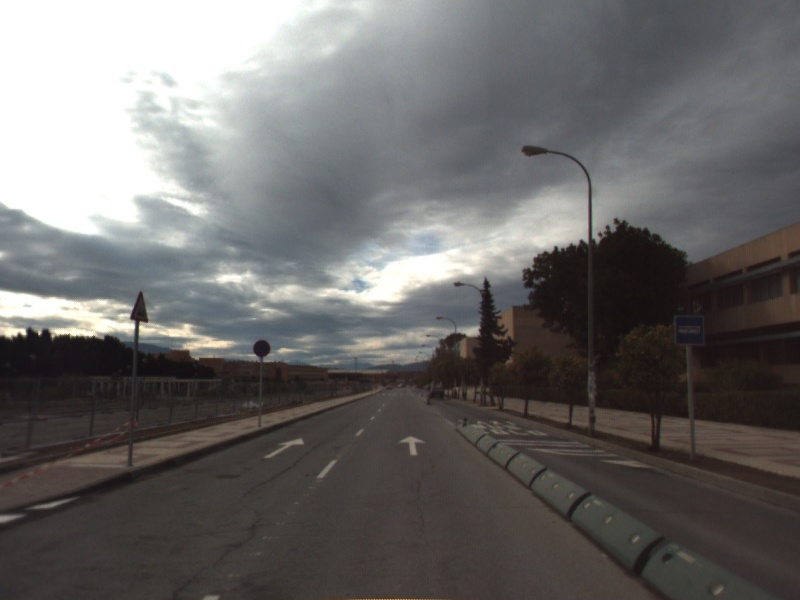STRAIGHT: (261, 435, 306, 460), (397, 433, 428, 458)
